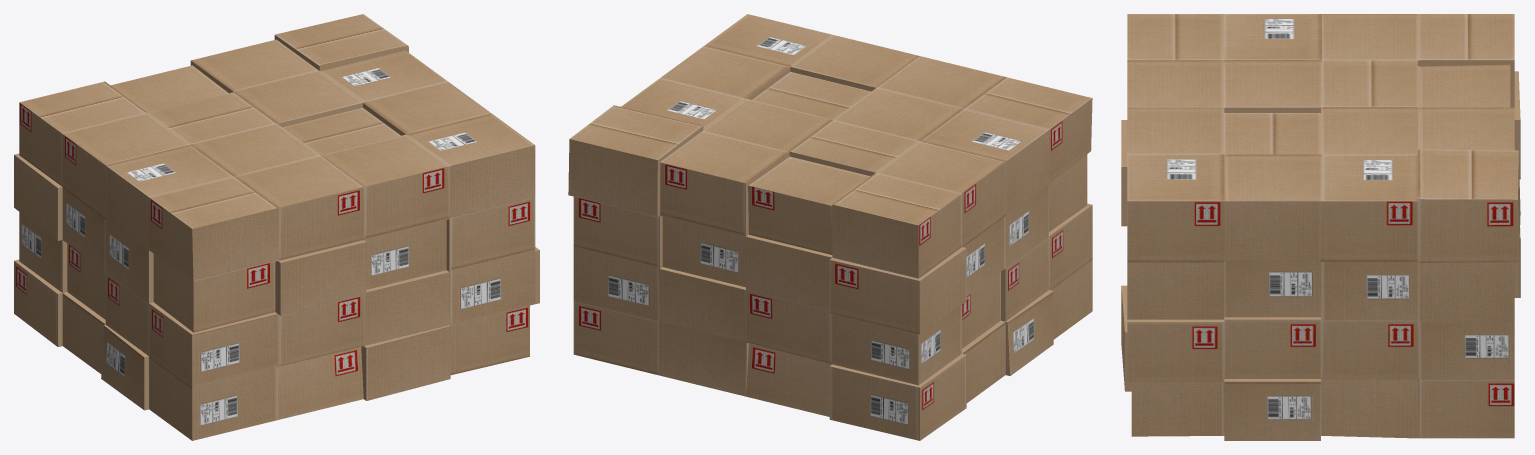
File: Box_PalletGroup.glb
The picture shows the model from 3 angles, left to right: view 1: azimuth 30°, elevation 25°; view 2: azimuth 150°, elevation 25°; view 3: azimuth 270°, elevation 25°; orthographic projection. The views are drawn at different scales.
Parts seen in each view (by area): view 1: Box_PalletGroup; view 2: Box_PalletGroup; view 3: Box_PalletGroup.
Part boxes in pixels (x1,y1,x2,y2): Box_PalletGroup: [14, 14, 539, 440]; Box_PalletGroup: [568, 14, 1092, 440]; Box_PalletGroup: [1121, 14, 1520, 440].
Size of the model in its own units: 2.74 by 1.61 by 2.4.
Materials: 1 (1 with a texture image).
